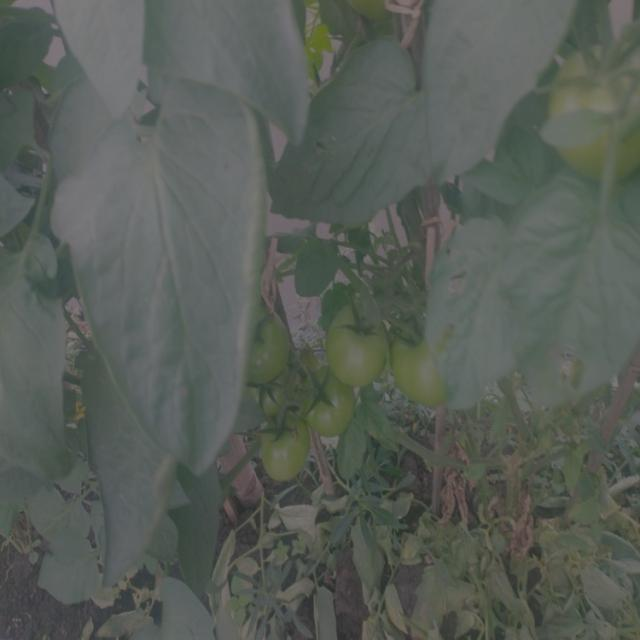tomato: (550, 39, 638, 184), (394, 331, 460, 411), (329, 300, 387, 386), (260, 421, 309, 481), (255, 308, 288, 388), (310, 387, 356, 440), (350, 2, 396, 26), (257, 390, 286, 413)
